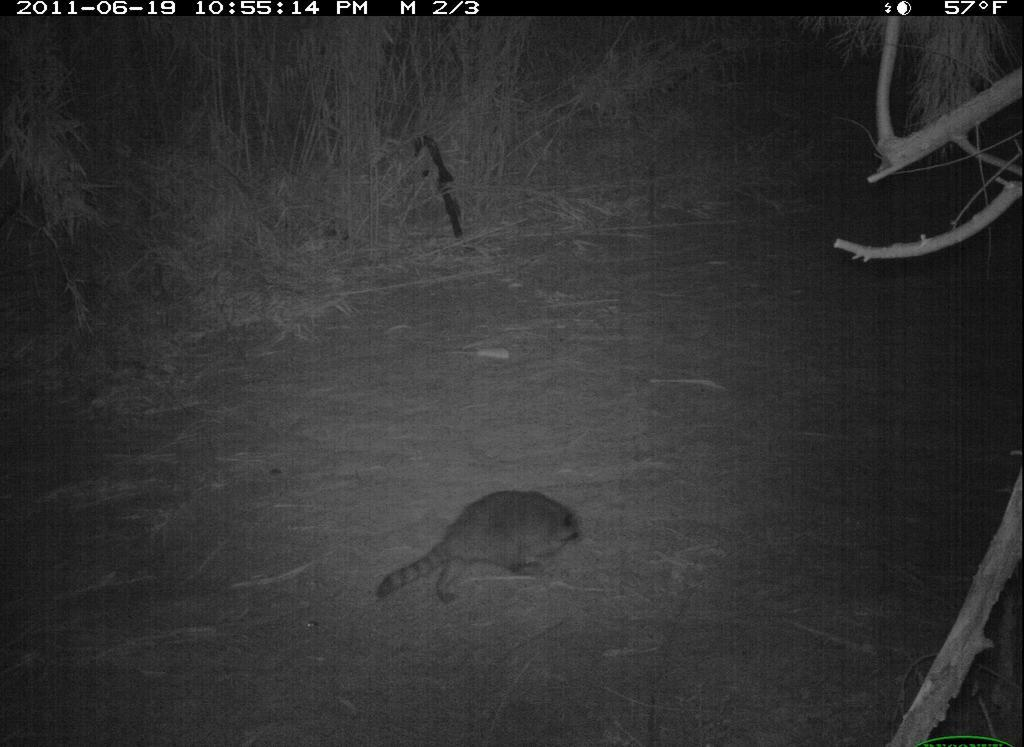raccoon: (369, 478, 594, 615)
